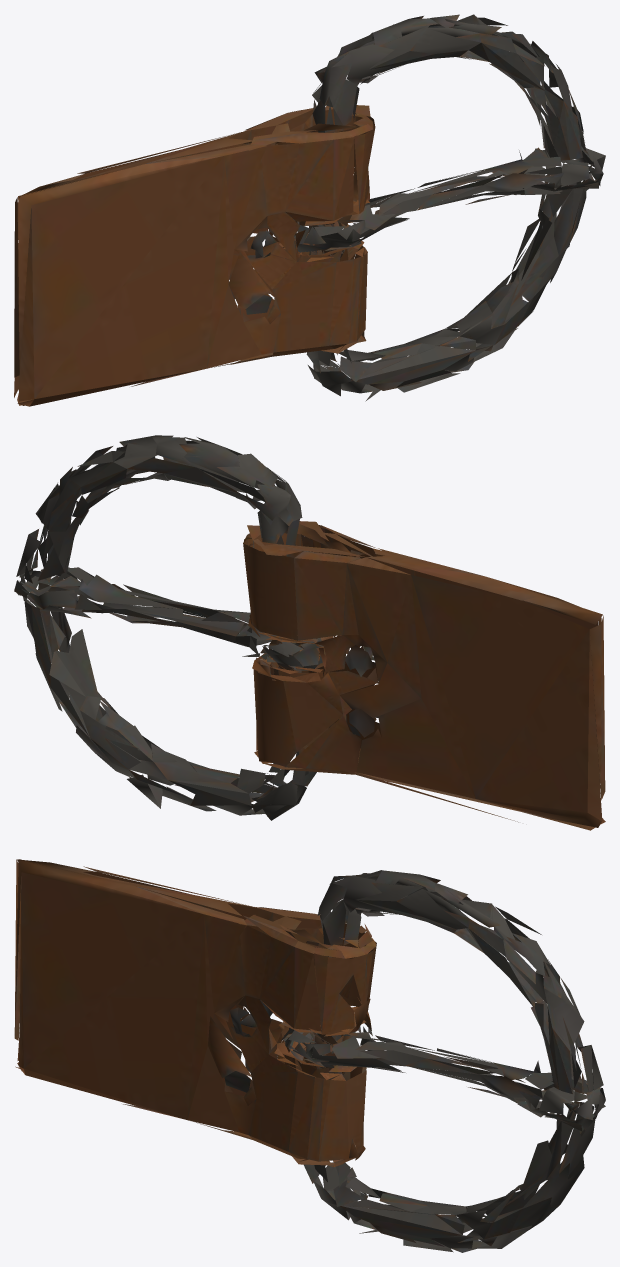
File: buckle_p1_w1.glb
3 views of the same model, one above another, from view 1: azimuth 30°, elevation 25°; view 2: azimuth 150°, elevation 25°; view 3: azimuth 330°, elevation 25° (orthographic).
Parts seen in each view (by area): view 1: buckle_p1_w1; view 2: buckle_p1_w1; view 3: buckle_p1_w1.
Boxes of the visible parts, bbox=[...] form: buckle_p1_w1: bbox=[14, 14, 605, 406]; buckle_p1_w1: bbox=[14, 435, 605, 830]; buckle_p1_w1: bbox=[14, 859, 605, 1252].
Size of the model in its own units: 0.1002 by 0.06 by 0.0124.
1 material, 1 textured.
